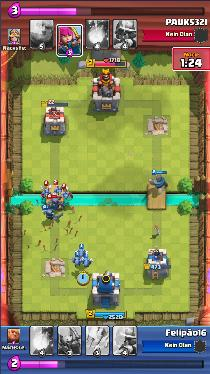ally_knight: (150, 173, 167, 190), (46, 209, 54, 220)
ally_minion: (77, 250, 85, 257), (83, 258, 91, 265), (73, 259, 80, 266)
enemy_arrow: (22, 192, 83, 251)
enemy_mini_pekka: (51, 199, 61, 208)
enemy_minion: (42, 187, 51, 198), (63, 189, 72, 199), (54, 186, 63, 194)
